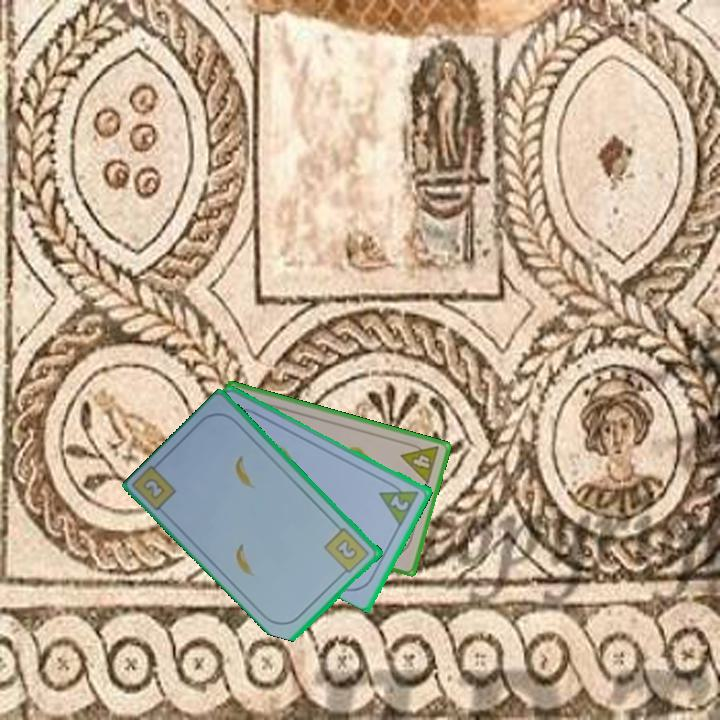2b: (321, 524, 373, 579), (140, 474, 169, 503)
2p: (376, 477, 423, 528)
4p: (397, 438, 442, 487)
